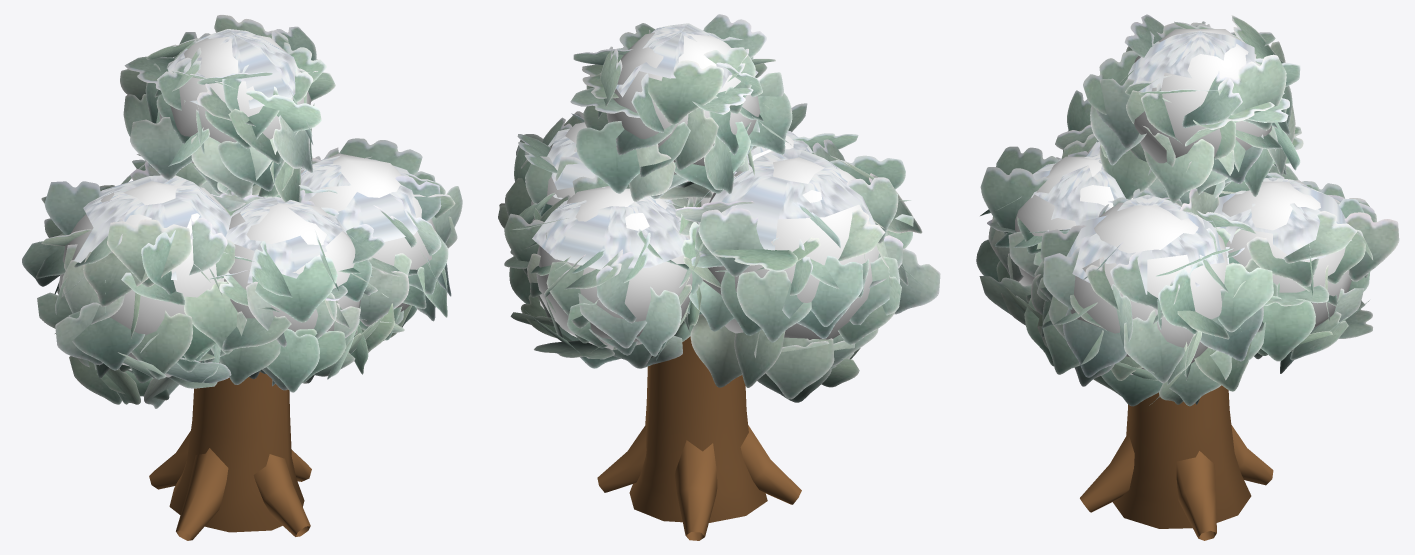
The model's file is tree-round-winter.glb.
3 views of the same model, side by side, from view 1: azimuth 30°, elevation 25°; view 2: azimuth 150°, elevation 25°; view 3: azimuth 270°, elevation 25° (orthographic). The views are drawn at different scales.
Visible parts, largest first — view 1: Crown, Trunk, Hull; view 2: Crown, Trunk, Hull; view 3: Crown, Hull, Trunk.
Boxes of the visible parts, <box> form: Crown: <box>22,15,462,408</box>; Trunk: <box>149,372,311,540</box>; Hull: <box>58,29,436,377</box>; Crown: <box>498,14,940,402</box>; Trunk: <box>597,336,801,540</box>; Hull: <box>531,32,879,350</box>; Crown: <box>976,14,1399,406</box>; Hull: <box>1015,29,1351,374</box>; Trunk: <box>1080,385,1273,540</box>.
Size of the model in its own units: 2.5 by 2.67 by 2.2.
Materials: 4 (1 with a texture image).
